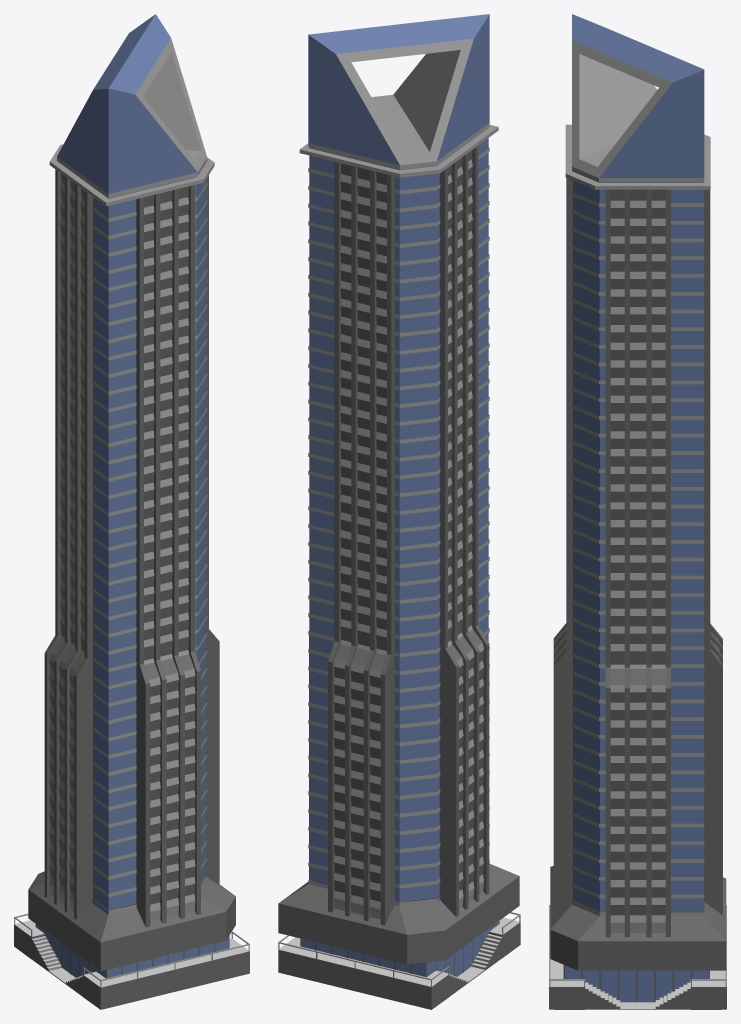
The model's file is city3.obj.
The picture shows the model from 3 angles, left to right: view 1: azimuth 30°, elevation 25°; view 2: azimuth 150°, elevation 25°; view 3: azimuth 270°, elevation 25°; orthographic projection. The views are drawn at different scales.
Parts seen in each view (by area): view 1: home_skyscraoer_Cube.1144; view 2: home_skyscraoer_Cube.1144; view 3: home_skyscraoer_Cube.1144.
Part boxes in pixels (<box>): home_skyscraoer_Cube.1144: <box>14,14,249,1009</box>; home_skyscraoer_Cube.1144: <box>278,14,520,1009</box>; home_skyscraoer_Cube.1144: <box>549,14,726,1009</box>.
Bounding box in the file's own units: 0.0764 × 0.4449 × 0.077.
Materials: 1 (1 with a texture image).
